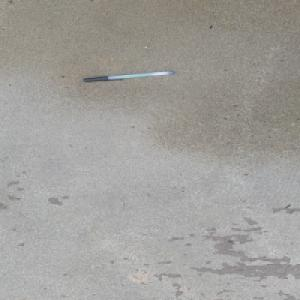Pen: (82, 69, 174, 82)
